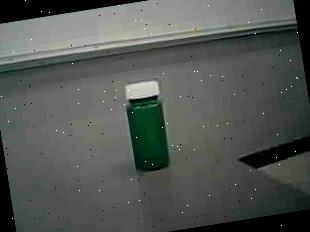Bottle C: (110, 69, 187, 184)
